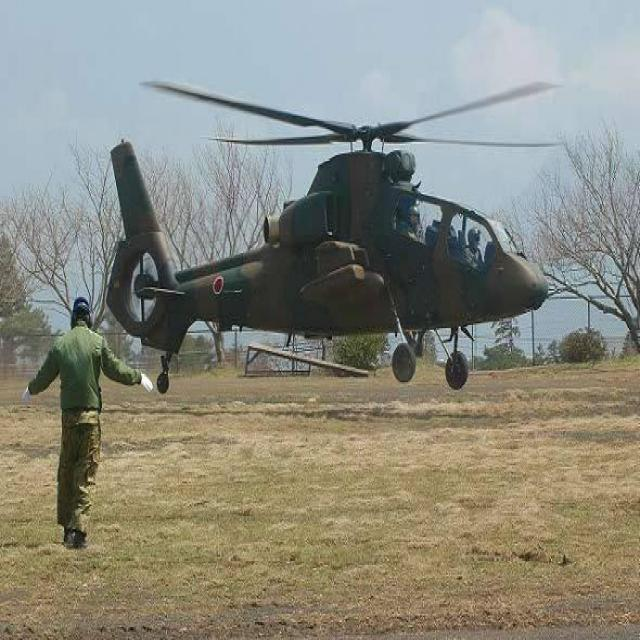MIL_HELO: (100, 67, 575, 395)
